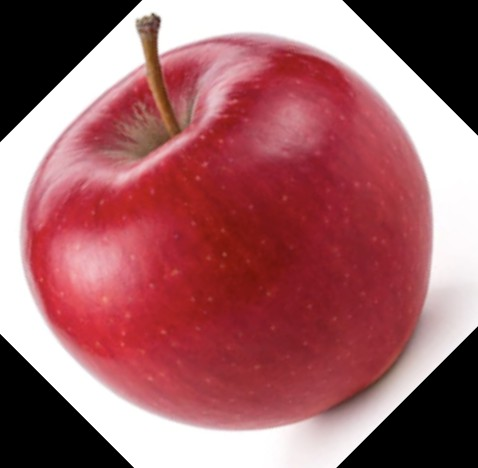fresh_apple: (22, 27, 441, 433)
